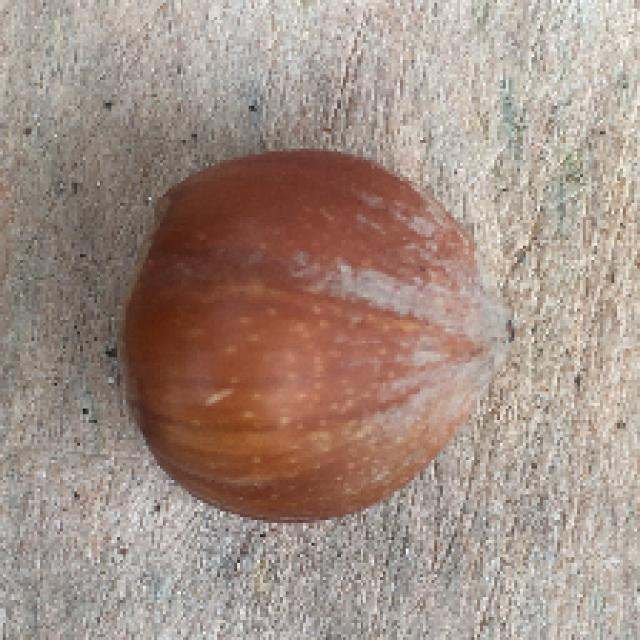QualityHazelnut: (118, 146, 521, 522)
